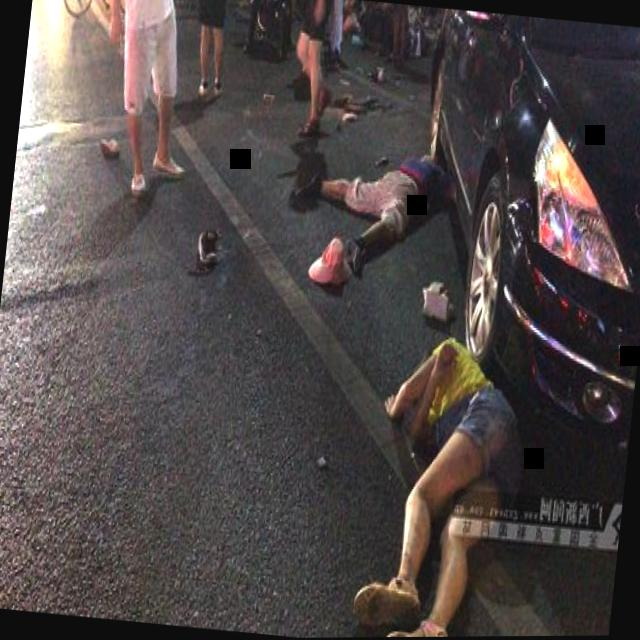Fall-Detected: (281, 109, 473, 319)
